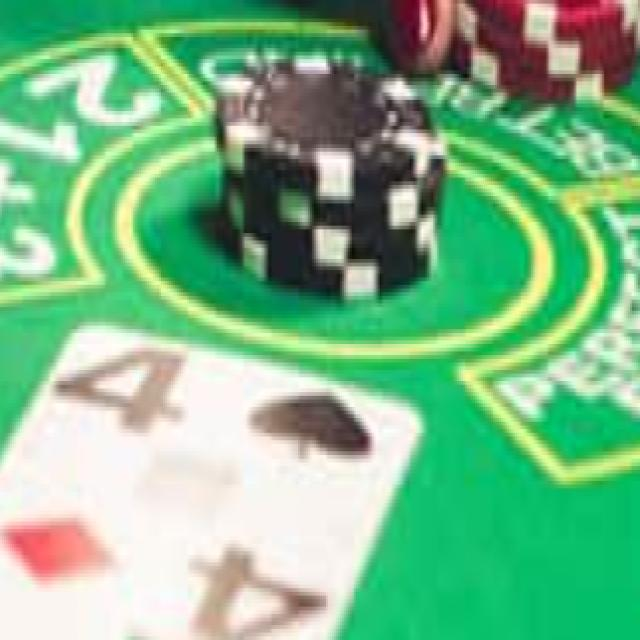Card-4: (2, 317, 423, 638)
